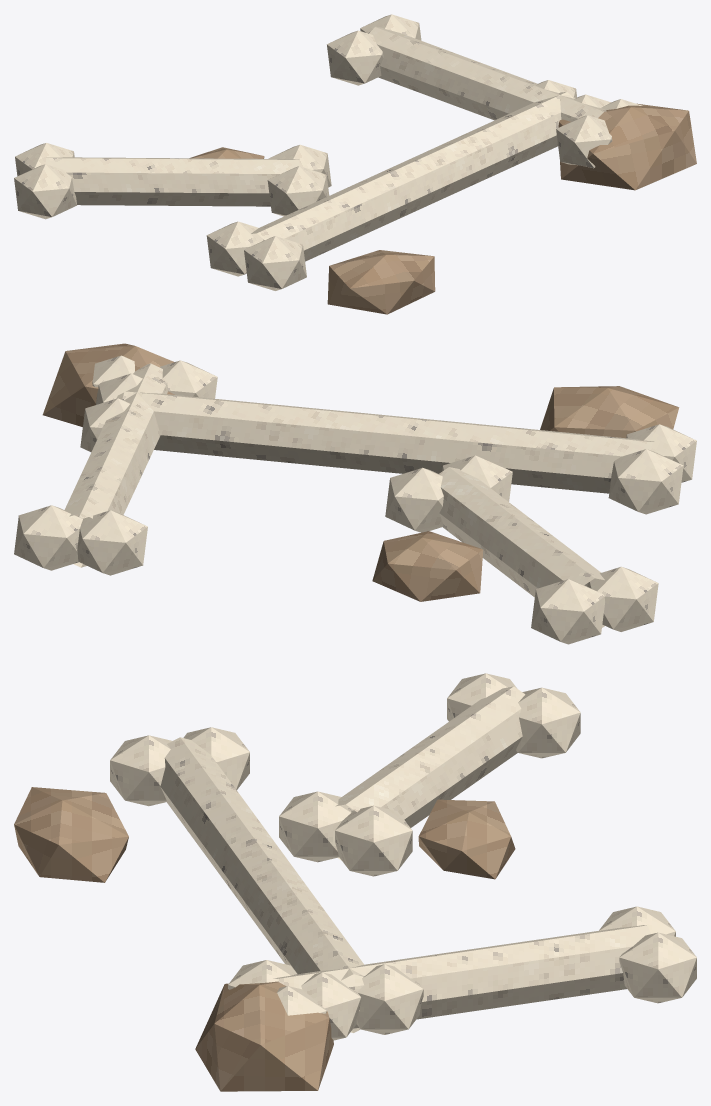
The model's file is ruins_bones.glb.
3 renders of one model, top to bottom at view 1: azimuth 30°, elevation 25°; view 2: azimuth 150°, elevation 25°; view 3: azimuth 270°, elevation 25°, orthographic. The views are drawn at different scales.
Parts seen in each view (by area): view 1: Bones, Pebbles; view 2: Bones, Pebbles; view 3: Bones, Pebbles.
Part boxes in pixels (<box>): Bones: <box>14,14,642,290</box>; Pebbles: <box>189,103,696,314</box>; Bones: <box>14,355,696,644</box>; Pebbles: <box>42,343,679,601</box>; Bones: <box>110,673,696,1040</box>; Pebbles: <box>14,787,515,1091</box>.
Bounding box in the file's own units: 1.33 × 0.1303 × 1.05.
Materials: 2 (2 with a texture image).
